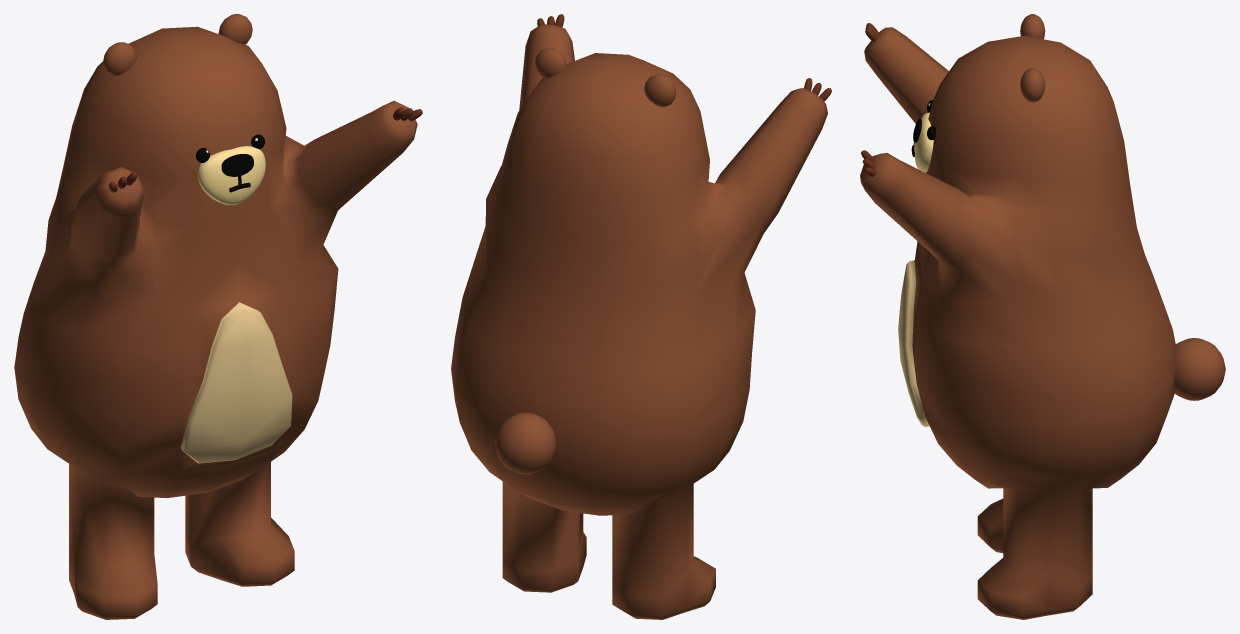
File: Bear 1.fbx
The picture shows the model from 3 angles, left to right: view 1: azimuth 30°, elevation 25°; view 2: azimuth 150°, elevation 25°; view 3: azimuth 270°, elevation 25°; orthographic projection. The views are drawn at different scales.
Parts seen in each view (by area): view 1: Cube.015; view 2: Cube.015; view 3: Cube.015.
Part boxes in pixels (x1,y1,x2,y2): Cube.015: [14, 14, 422, 619]; Cube.015: [451, 14, 831, 619]; Cube.015: [860, 14, 1225, 619].
Bounding box in the file's own units: 203 × 344 × 215.
